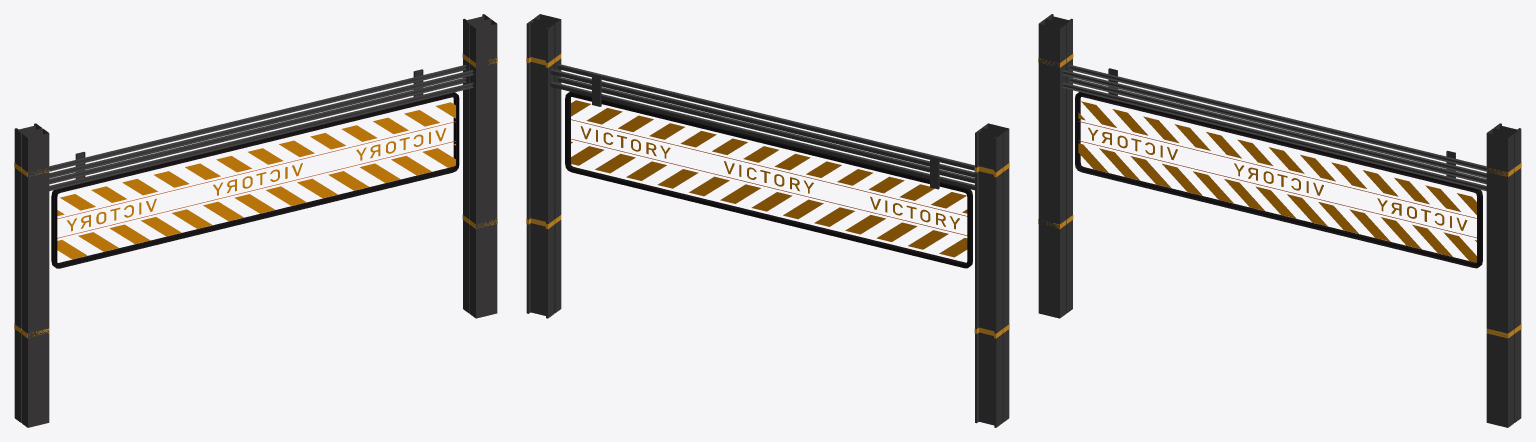
The model's file is M_Dzhongdian01.FBX.
3 views of the same model, side by side, from view 1: azimuth 30°, elevation 25°; view 2: azimuth 150°, elevation 25°; view 3: azimuth 330°, elevation 25° (orthographic).
Parts seen in each view (by area): view 1: M_Dzhongdian01_01, M_Dzhongdian01_02; view 2: M_Dzhongdian01_01, M_Dzhongdian01_02; view 3: M_Dzhongdian01_01, M_Dzhongdian01_02.
Part boxes in pixels (x1,y1,x2,y2): M_Dzhongdian01_01: (14,14,497,427); M_Dzhongdian01_02: (57,102,455,259); M_Dzhongdian01_01: (526,14,1009,427); M_Dzhongdian01_02: (571,100,967,257); M_Dzhongdian01_01: (1038,14,1521,427); M_Dzhongdian01_02: (1078,101,1476,262).
Bounding box in the file's own units: 12.99 × 7.66 × 0.6367.
